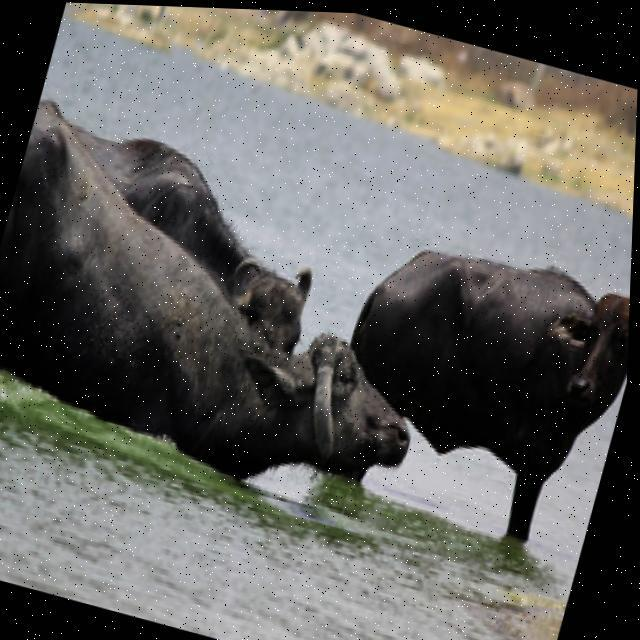Buffalo: (0, 96, 457, 513), (395, 234, 632, 553), (3, 94, 292, 295), (528, 275, 631, 413)
